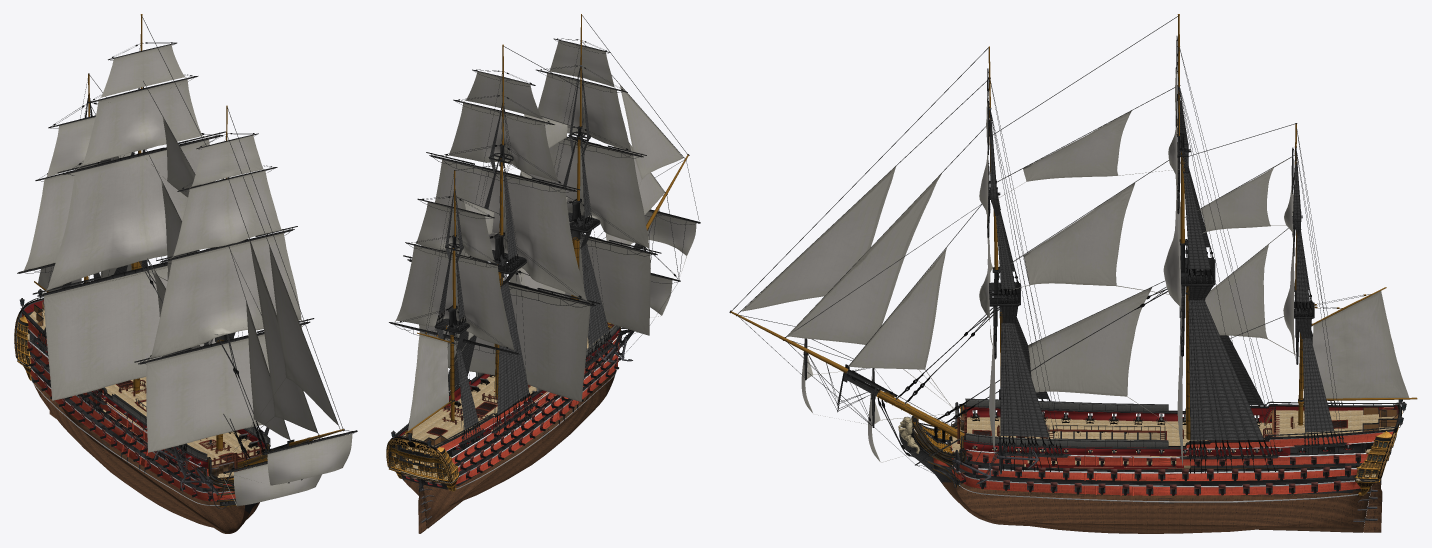
3 views of the same model, side by side, from view 1: azimuth 30°, elevation 25°; view 2: azimuth 150°, elevation 25°; view 3: azimuth 270°, elevation 25° (orthographic). The views are drawn at different scales.
Parts seen in each view (by area): view 1: G-Santisima_Trinidad_84_2, G-Santisima_Trinidad_82_38, G-Santisima_Trinidad_71_64, G-Santisima_Trinidad_69_8, G-Santisima_Trinidad_86_3, G-Santisima_Trinidad_67_5, G-__614892_60, G-Santisima_Trinidad_40_36, G-Santisima_Trinidad_41_51, G-Santisima_Trinidad_63_52, G-Santisima_Trinidad_52_21, G-Santisima_Trinidad_90_16 (+27 smaller); view 2: G-Santisima_Trinidad_84_2, G-Santisima_Trinidad_63_52, G-Santisima_Trinidad_82_38, G-Santisima_Trinidad_64_4, G-Santisima_Trinidad_90_16, G-Santisima_Trinidad_71_64, G-Santisima_Trinidad_86_3, G-Santisima_Trinidad_69_8, G-__614892_60, G-Santisima_Trinidad_67_5, G-Santisima_Trinidad_62_22, G-Santisima_Trinidad_52_21 (+27 smaller); view 3: G-Santisima_Trinidad_64_4, G-Santisima_Trinidad_63_52, G-__614892_60, G-Santisima_Trinidad_52_21, G-Santisima_Trinidad_78_0, G-Santisima_Trinidad_41_51, G-Santisima_Trinidad_74_10, G-Santisima_Trinidad_44_13, G-Santisima_Trinidad_40_36, G-Santisima_Trinidad_75_34, G-Santisima_Trinidad_62_22, G-Santisima_Trinidad_47_35 (+17 smaller).
Part boxes in pixels (left/top/right/bottom): G-Santisima_Trinidad_84_2: left=42, top=139, right=214, bottom=294; G-Santisima_Trinidad_82_38: left=44, top=265, right=215, bottom=400; G-Santisima_Trinidad_71_64: left=146, top=233, right=302, bottom=361; G-Santisima_Trinidad_69_8: left=146, top=325, right=301, bottom=452; G-Santisima_Trinidad_86_3: left=75, top=79, right=208, bottom=170; G-Santisima_Trinidad_67_5: left=171, top=170, right=284, bottom=258; G-__614892_60: left=34, top=382, right=259, bottom=531; G-Santisima_Trinidad_40_36: left=234, top=245, right=337, bottom=451; G-Santisima_Trinidad_41_51: left=229, top=238, right=317, bottom=453; G-Santisima_Trinidad_63_52: left=37, top=16, right=354, bottom=509; G-Santisima_Trinidad_52_21: left=22, top=313, right=235, bottom=501; G-Santisima_Trinidad_90_16: left=23, top=172, right=75, bottom=271; G-Santisima_Trinidad_84_2: left=421, top=160, right=591, bottom=303; G-Santisima_Trinidad_63_52: left=409, top=15, right=699, bottom=442; G-Santisima_Trinidad_82_38: left=419, top=285, right=590, bottom=401; G-Santisima_Trinidad_64_4: left=436, top=81, right=608, bottom=429; G-Santisima_Trinidad_90_16: left=394, top=245, right=514, bottom=351; G-Santisima_Trinidad_71_64: left=520, top=138, right=650, bottom=252; G-Santisima_Trinidad_86_3: left=442, top=102, right=564, bottom=187; G-Santisima_Trinidad_69_8: left=509, top=236, right=650, bottom=335; G-__614892_60: left=404, top=373, right=614, bottom=523; G-Santisima_Trinidad_67_5: left=538, top=73, right=633, bottom=153; G-Santisima_Trinidad_62_22: left=409, top=40, right=700, bottom=449; G-Santisima_Trinidad_52_21: left=437, top=339, right=619, bottom=484; G-Santisima_Trinidad_64_4: left=990, top=100, right=1333, bottom=440; G-Santisima_Trinidad_63_52: left=731, top=16, right=1343, bottom=488; G-__614892_60: left=954, top=464, right=1365, bottom=533; G-Santisima_Trinidad_52_21: left=933, top=407, right=1393, bottom=495; G-Santisima_Trinidad_78_0: left=1028, top=287, right=1177, bottom=429; G-Santisima_Trinidad_41_51: left=787, top=173, right=958, bottom=412; G-Santisima_Trinidad_74_10: left=1312, top=291, right=1409, bottom=398; G-Santisima_Trinidad_44_13: left=899, top=409, right=1394, bottom=495; G-Santisima_Trinidad_40_36: left=741, top=166, right=964, bottom=419; G-Santisima_Trinidad_75_34: left=1007, top=152, right=1185, bottom=297; G-Santisima_Trinidad_62_22: left=729, top=46, right=1344, bottom=474; G-Santisima_Trinidad_47_35: left=951, top=410, right=1394, bottom=481.
Bounding box in the file's own units: 40.65 × 84.23 × 101.
Materials: 65 (65 with a texture image).
